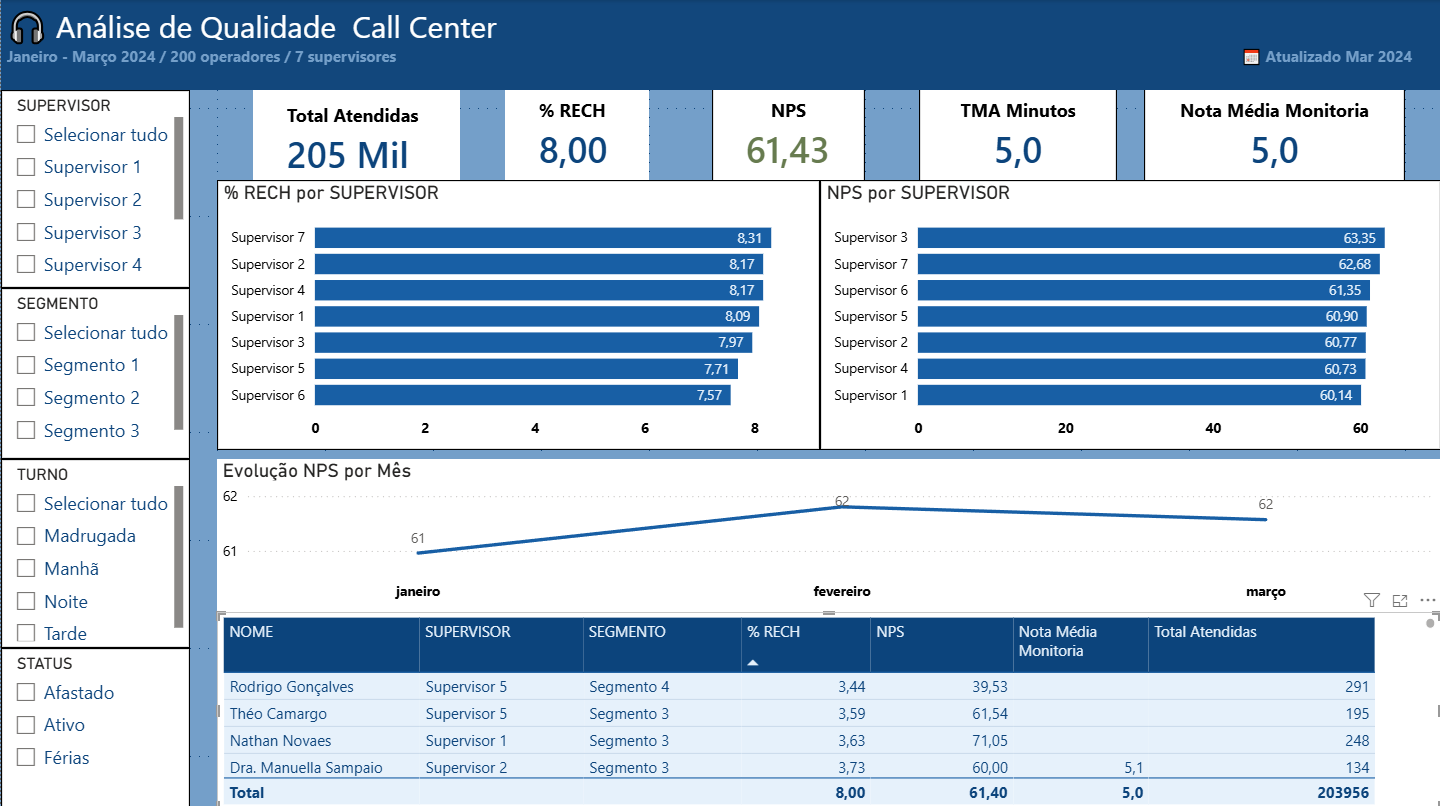

Layout of this report page (visuals, bound fields, positions):
{"tool":"powerbi","page":{"name":"Página 1","canvas":[1280,720],"ordinal":0},"visuals":[{"type":"slicer","fields":{"Values":["operadores.SUPERVISOR"]},"box":[0,80,168,176],"z":0},{"type":"slicer","fields":{"Values":["operadores.SEGMENTO"]},"box":[0,256,168,152],"z":1000},{"type":"slicer","fields":{"Values":["operadores.TURNO"]},"box":[0,408,168,168],"z":2000},{"type":"cardVisual","fields":{"Data":["_Medida.Total Atendidas"]},"box":[224,72,184,104],"z":3000},{"type":"cardVisual","fields":{"Data":["_Medida.% RECH"]},"box":[448,72,128,96],"z":4000},{"type":"cardVisual","fields":{"Data":["_Medida.NPS"]},"box":[632,72,136,96],"z":5000},{"type":"cardVisual","fields":{"Data":["_Medida.TMA Minutos"]},"box":[816,72,176,96],"z":6000},{"type":"cardVisual","fields":{"Data":["_Medida.Nota Média Monitoria"]},"box":[1016,72,232,96],"z":7000},{"type":"clusteredBarChart","fields":{"Category":["operadores.SUPERVISOR"],"Y":["_Medida.% RECH"]},"box":[192,160,536,240],"z":8000},{"type":"clusteredBarChart","fields":{"Category":["atendimentos.SUPERVISOR"],"Y":["_Medida.NPS"]},"box":[728,160,552,240],"z":9000},{"type":"lineChart","title":"Evolução NPS por Mês","fields":{"Y":["_Medida.NPS"],"Category":["atendimentos.DATA.Variation.Hierarquia de datas.Mês"]},"box":[192,408,1088,136],"z":10000},{"type":"tableEx","fields":{"Values":["operadores.NOME","operadores.SUPERVISOR","operadores.SEGMENTO","_Medida.% RECH","_Medida.NPS","_Medida.Nota Média Monitoria","_Medida.Total Atendidas"]},"box":[192,544,1088,176],"z":11000},{"type":"textbox","box":[0,0,1280,80],"z":12000},{"type":"slicer","fields":{"Values":["operadores.STATUS"]},"box":[0,576,168,144],"z":13000}]}

Visuals, with their boxes in screenshot pixels (x1, y1, x2, y2), scaled from the page's 1280x720 canvas onto the 1440x806 screenshot:
slicer - operadores.SUPERVISOR: rect(0, 90, 189, 287)
slicer - operadores.SEGMENTO: rect(0, 287, 189, 457)
slicer - operadores.TURNO: rect(0, 457, 189, 645)
cardVisual - _Medida.Total Atendidas: rect(252, 81, 459, 197)
cardVisual - _Medida.% RECH: rect(504, 81, 648, 188)
cardVisual - _Medida.NPS: rect(711, 81, 864, 188)
cardVisual - _Medida.TMA Minutos: rect(918, 81, 1116, 188)
cardVisual - _Medida.Nota Média Monitoria: rect(1143, 81, 1404, 188)
clusteredBarChart - operadores.SUPERVISOR x _Medida.% RECH: rect(216, 179, 819, 448)
clusteredBarChart - atendimentos.SUPERVISOR x _Medida.NPS: rect(819, 179, 1439, 448)
"Evolução NPS por Mês" lineChart: rect(216, 457, 1439, 609)
tableEx - operadores.NOME x operadores.SUPERVISOR: rect(216, 609, 1439, 805)
textbox: rect(0, 0, 1439, 90)
slicer - operadores.STATUS: rect(0, 645, 189, 805)
